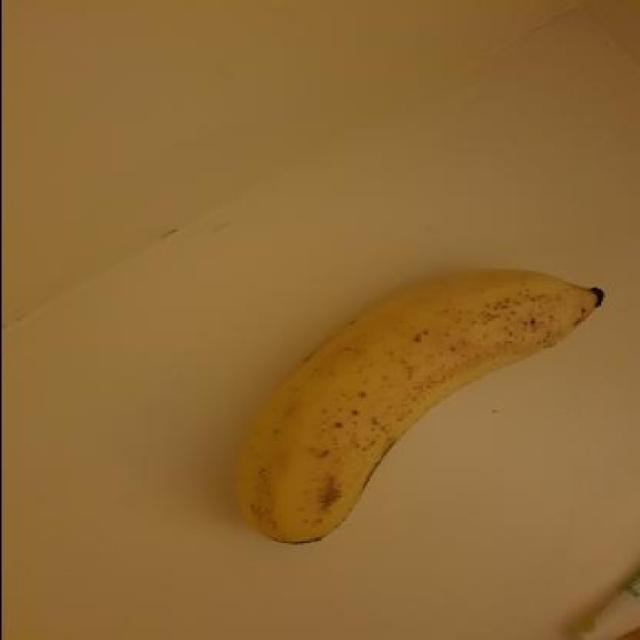Banana: (222, 258, 616, 557)
